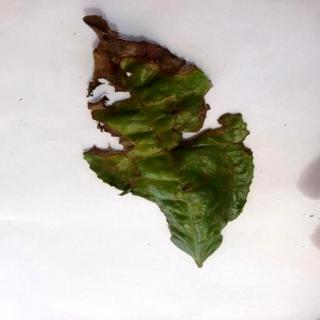Algal Leaf: (83, 15, 257, 270)
